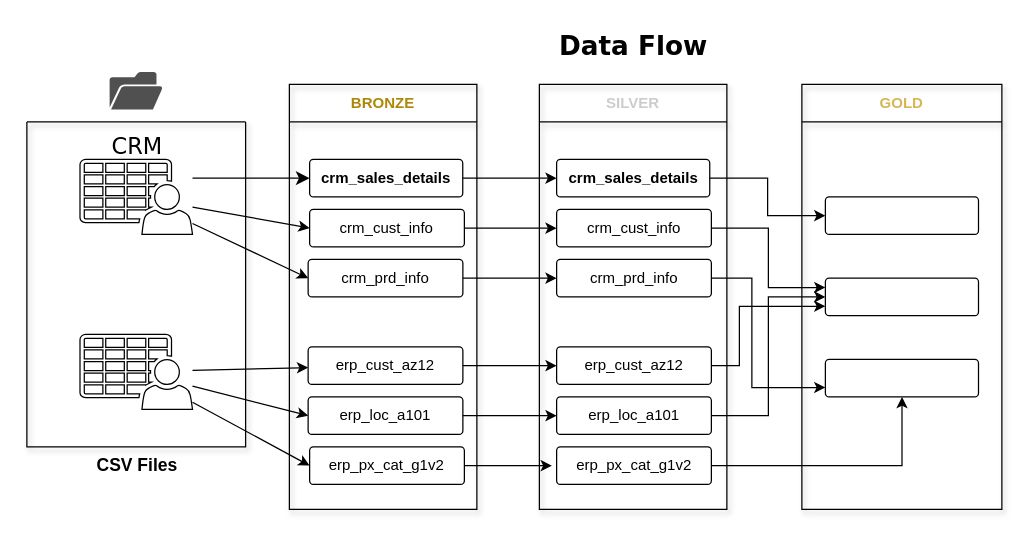
Image size: 1031x540. Some labels were removed from this diagram. Here are the shapes that lost their labels. From the top down, the centre of each, then its label:
At [901,215]: "fact_sales".
At [901,296]: "dim_customers".
At [135,371]: "ERP".
At [901,377]: "dim_products".
